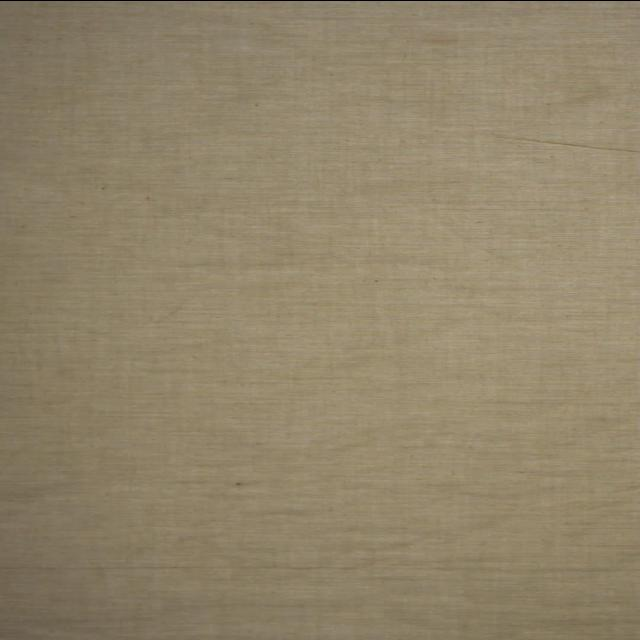dirty: (420, 32, 466, 44)
